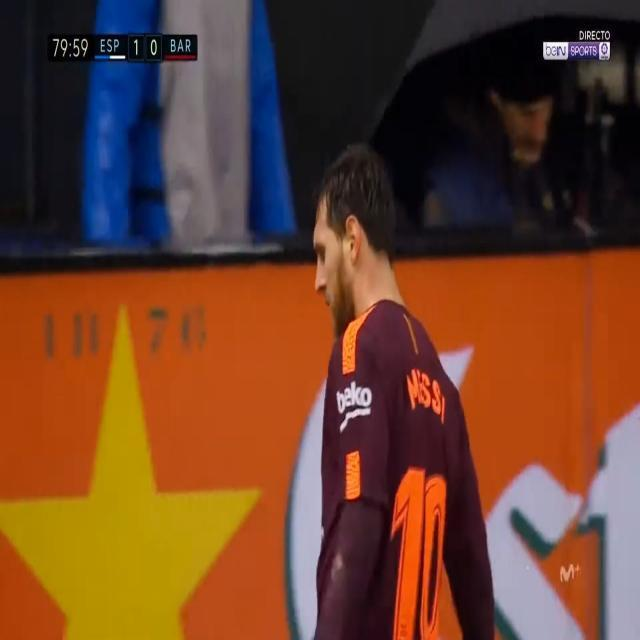player: (285, 95, 513, 640)
